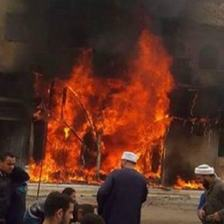fire: (28, 39, 175, 151), (28, 155, 104, 182), (145, 154, 195, 189)
